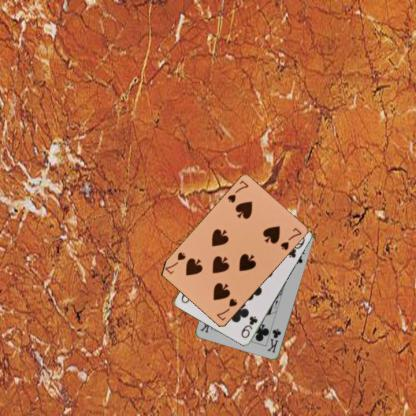7s: (224, 178, 249, 204), (214, 296, 238, 322)
9c: (238, 314, 258, 340)
Kc: (264, 327, 283, 354)
